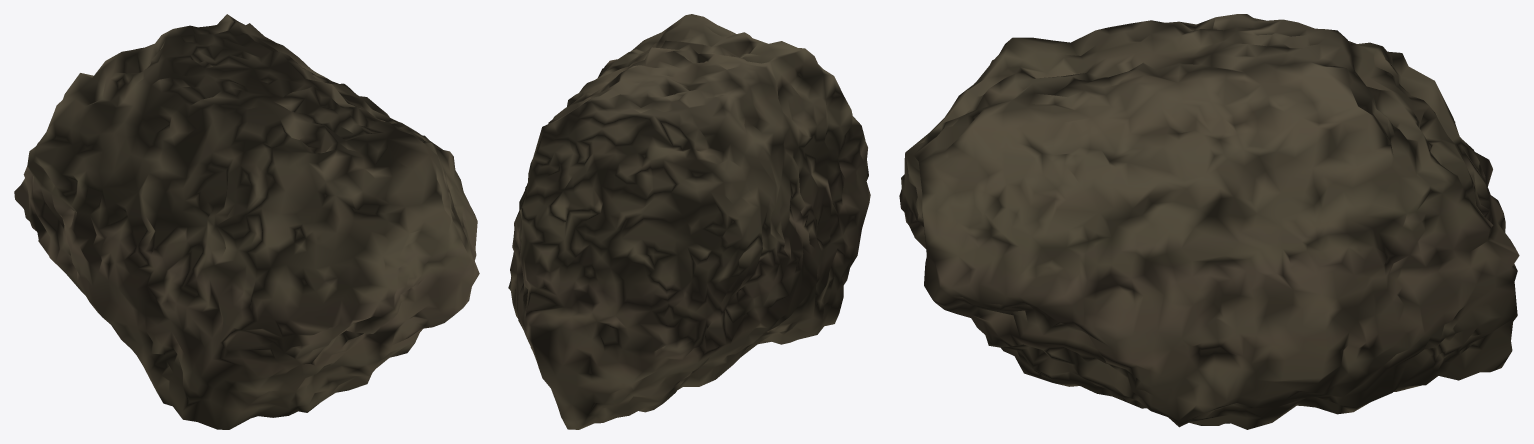
File: OBJ_Meteorite.fbx
The picture shows the model from 3 angles, left to right: view 1: azimuth 30°, elevation 25°; view 2: azimuth 150°, elevation 25°; view 3: azimuth 270°, elevation 25°; orthographic projection. The views are drawn at different scales.
Parts seen in each view (by area): view 1: OBJ_Meteroite; view 2: OBJ_Meteroite; view 3: OBJ_Meteroite.
Part boxes in pixels (x1,y1,x2,y2): OBJ_Meteroite: [14, 14, 479, 429]; OBJ_Meteroite: [508, 14, 870, 429]; OBJ_Meteroite: [899, 14, 1519, 429].
Bounding box in the file's own units: 58.78 × 54.64 × 91.75.
